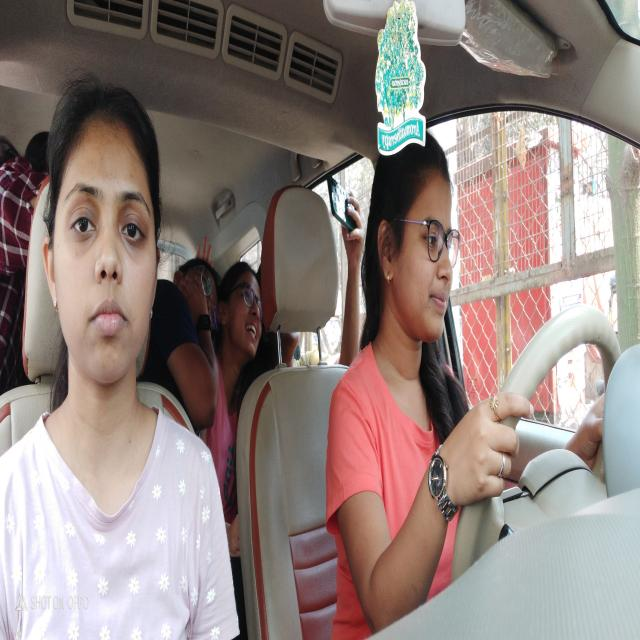person: (44, 68, 164, 400), (363, 122, 458, 366), (217, 250, 262, 374), (177, 244, 217, 355)
